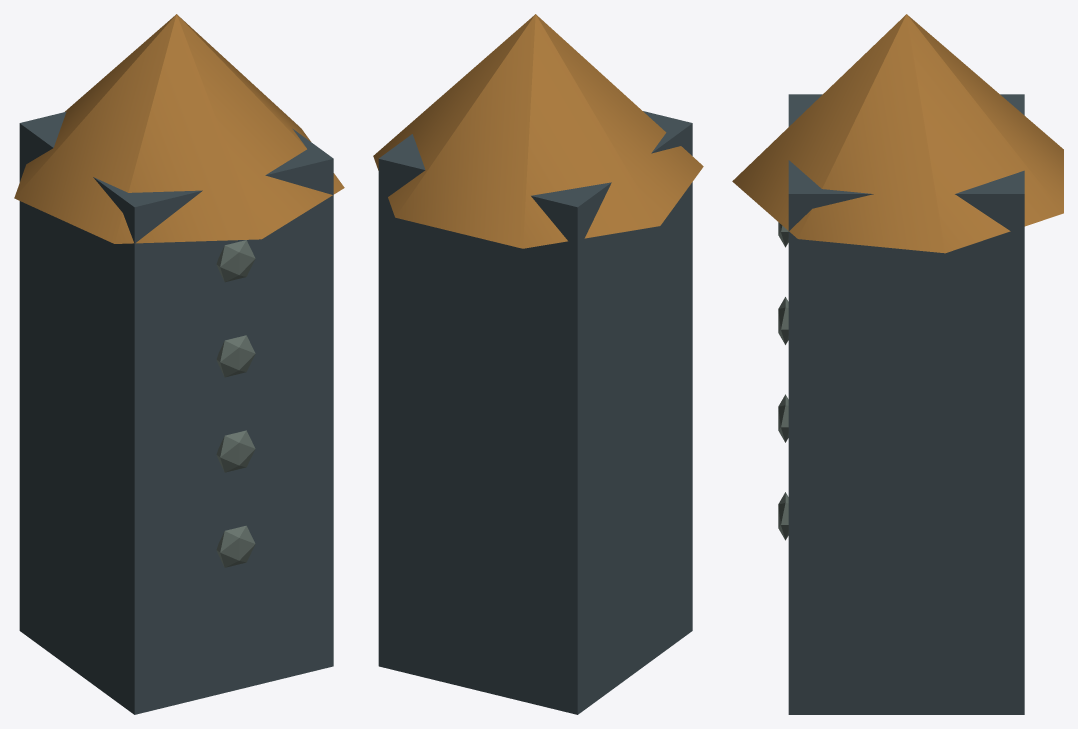
Rendered from watchtower.glb.
3 renders of one model, left to right at view 1: azimuth 30°, elevation 25°; view 2: azimuth 150°, elevation 25°; view 3: azimuth 270°, elevation 25°, orthographic. The views are drawn at different scales.
Parts seen in each view (by area): view 1: tower_body, tower_crown, window_3, window_0, window_1, window_2; view 2: tower_body, tower_crown; view 3: tower_body, tower_crown.
Part boxes in pixels (x1,y1,x2,y2): tower_body: [19, 111, 333, 714]; tower_crown: [14, 14, 344, 243]; window_3: [216, 240, 255, 282]; window_0: [216, 525, 255, 567]; window_1: [216, 430, 255, 472]; window_2: [216, 335, 255, 377]; tower_body: [378, 111, 692, 714]; tower_crown: [373, 14, 703, 248]; tower_body: [788, 94, 1024, 714]; tower_crown: [732, 14, 1063, 253].
Size of what is drawn, in the model's own units: 3.31 by 7 by 3.23.
